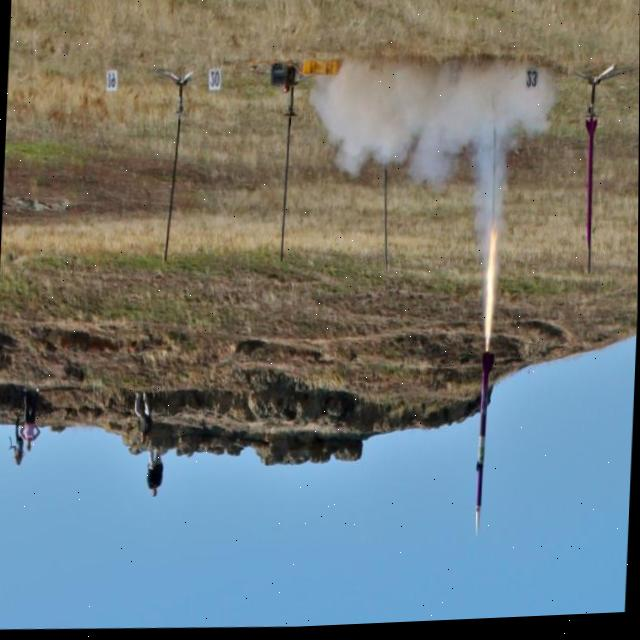missile: (466, 351, 497, 533)
